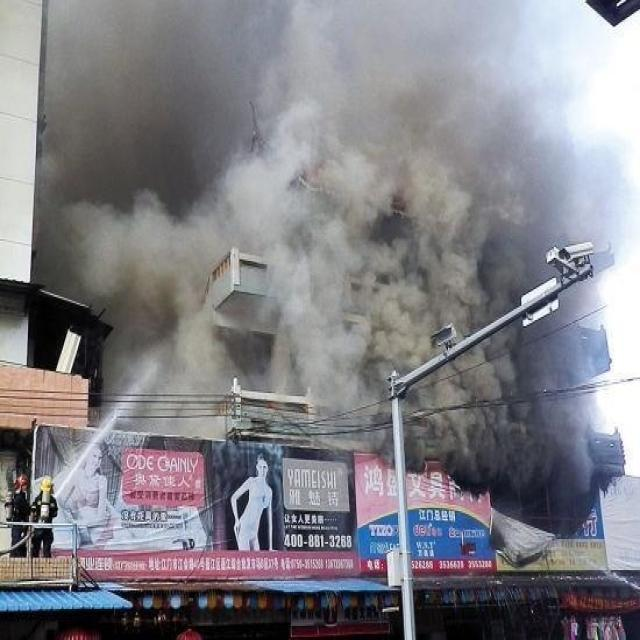Smoke: (35, 1, 630, 491)
